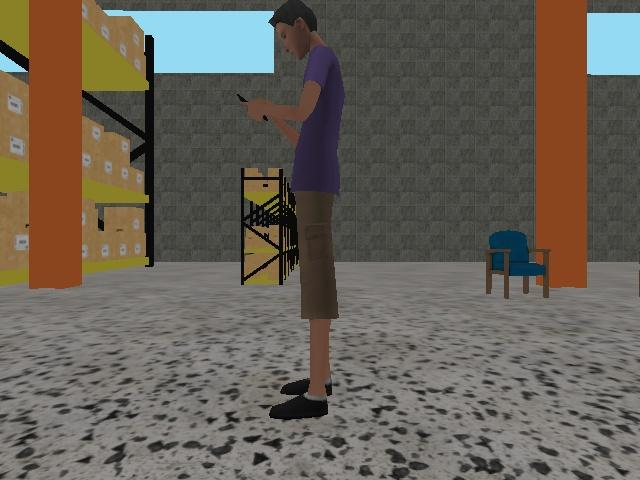chair: (482, 228, 554, 301)
person: (235, 1, 347, 424)
